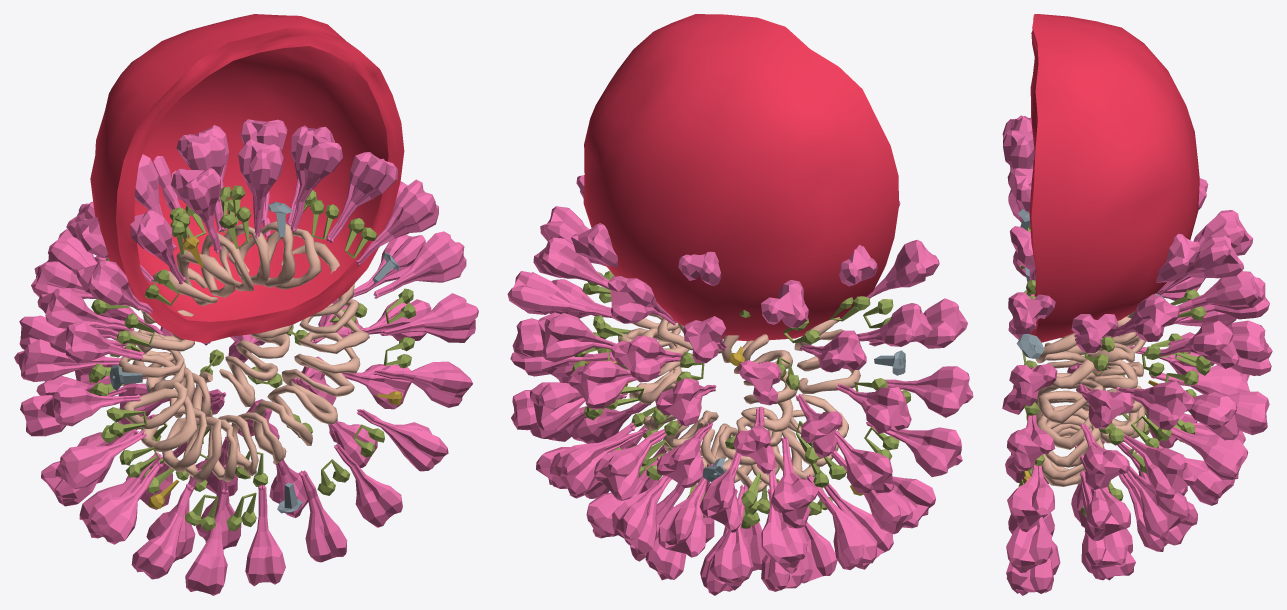
Rendered from marbet_corona.glb.
The picture shows the model from 3 angles, left to right: view 1: azimuth 30°, elevation 25°; view 2: azimuth 150°, elevation 25°; view 3: azimuth 270°, elevation 25°; orthographic projection.
Parts seen in each view (by area): view 1: Spike Glycoprotein (S), Envelope, RNA and N protein, M-Protein, RNA and N protein.001, Hemagglutinin-esterase dimer (HE), E-Protein; view 2: Spike Glycoprotein (S), Envelope, M-Protein, RNA and N protein.001, RNA and N protein, Hemagglutinin-esterase dimer (HE); view 3: Spike Glycoprotein (S), Envelope, RNA and N protein, M-Protein, RNA and N protein.001, Hemagglutinin-esterase dimer (HE).
Part boxes in pixels (<box>): Spike Glycoprotein (S): <box>14,119,478,595</box>; Envelope: <box>90,14,404,343</box>; RNA and N protein: <box>118,221,369,483</box>; M-Protein: <box>88,185,415,531</box>; RNA and N protein.001: <box>132,253,292,417</box>; Hemagglutinin-esterase dimer (HE): <box>110,201,399,513</box>; E-Protein: <box>148,236,402,508</box>; Spike Glycoprotein (S): <box>507,175,973,595</box>; Envelope: <box>583,14,898,341</box>; M-Protein: <box>572,270,910,528</box>; RNA and N protein.001: <box>636,317,797,471</box>; RNA and N protein: <box>617,313,860,492</box>; Hemagglutinin-esterase dimer (HE): <box>702,350,905,494</box>; Spike Glycoprotein (S): <box>1002,115,1272,595</box>; Envelope: <box>1029,14,1199,342</box>; RNA and N protein: <box>1034,294,1104,486</box>; M-Protein: <box>1018,208,1211,516</box>; RNA and N protein.001: <box>1087,310,1145,443</box>; Hemagglutinin-esterase dimer (HE): <box>1016,209,1165,517</box>.
Size of the model in its own units: 0.6254 by 0.7756 by 0.3488.
